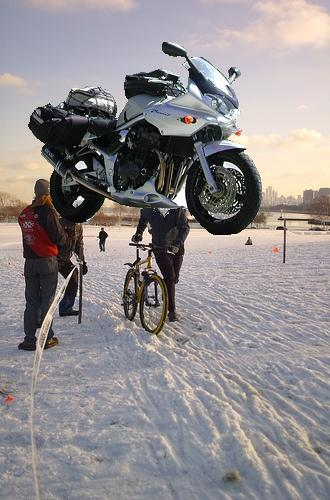tampered: (29, 43, 262, 235)
